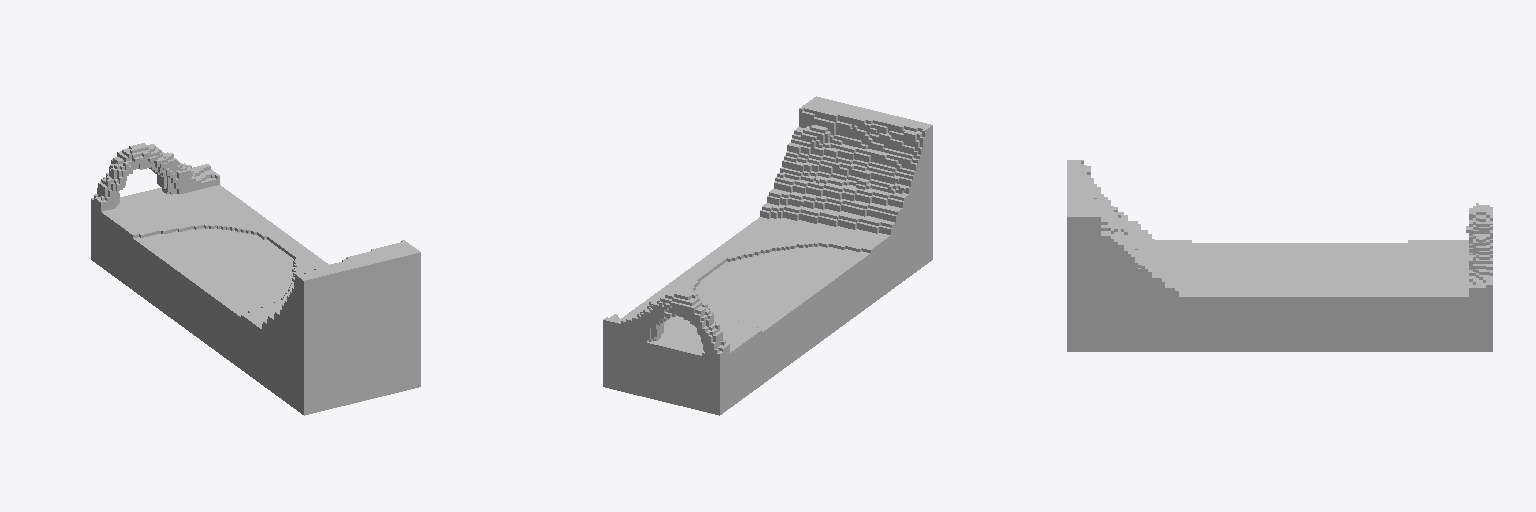
Rendered from Level 1-6.obj.
The picture shows the model from 3 angles: view 1: azimuth 30°, elevation 25°; view 2: azimuth 150°, elevation 25°; view 3: azimuth 270°, elevation 25°; orthographic projection.
Visible parts, largest first — view 1: default; view 2: default; view 3: default.
Boxes of the visible parts, <box> form: default: <box>91,143,420,415</box>; default: <box>603,96,932,415</box>; default: <box>1067,160,1492,351</box>.
Size of the model in its own units: 40 by 44 by 126.